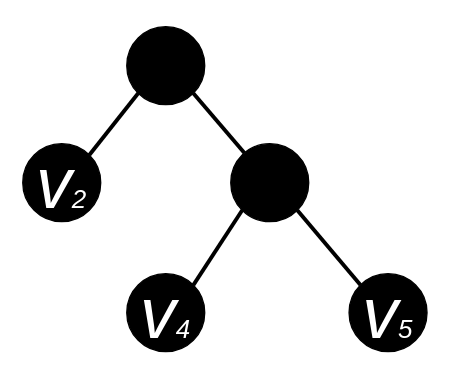
This 450x378 diagram has some shape labels left out. The box of each missing label's shape, as (x1, y1, x2, y2) in pixels:
v 1: (125, 25, 205, 105)
v 3: (229, 142, 309, 222)
